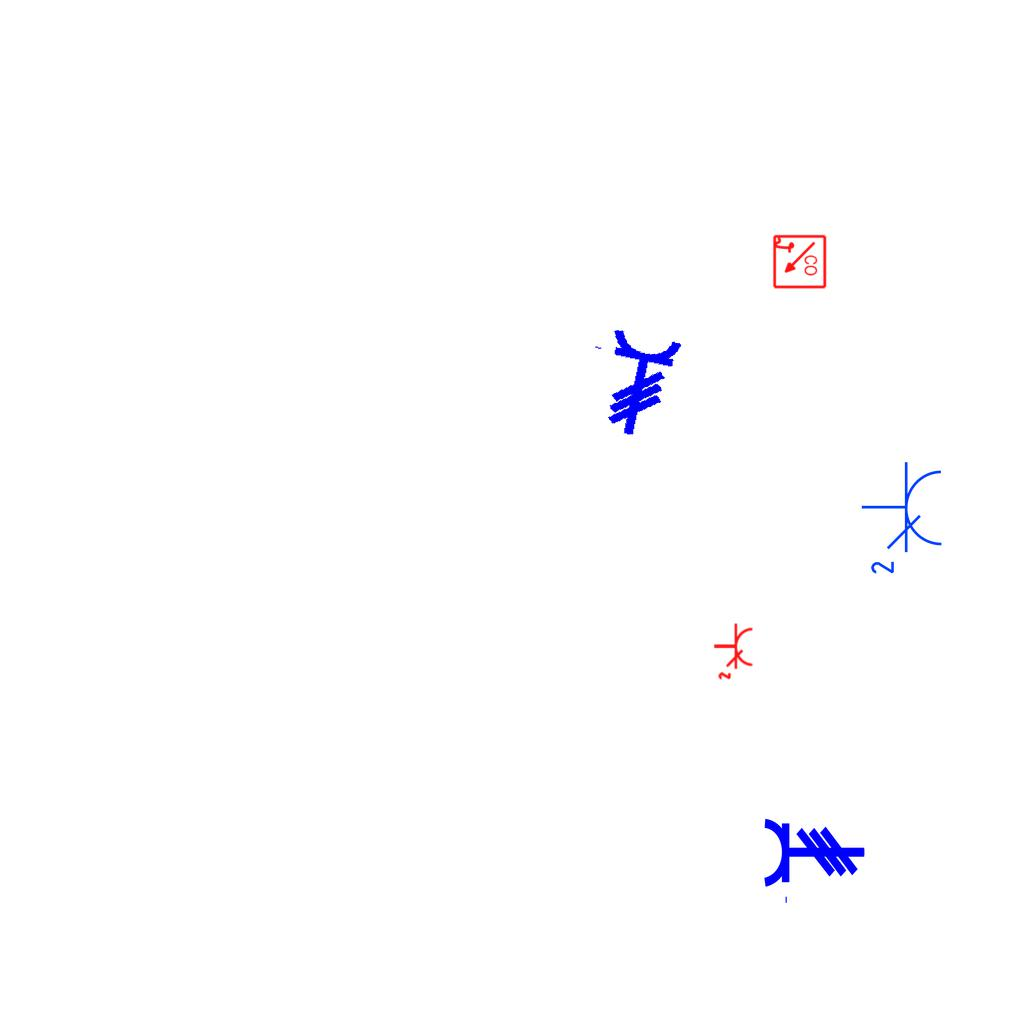CEE_Drehstrom_Steckdose_16_32_A: (575, 322, 685, 444), (762, 816, 866, 906)
ROA_Rauchmelder_optisch_mit_Signalgeber_(Sockelsirene): (771, 234, 827, 290)
Schukosteckdose_mehrfach: (860, 460, 948, 581), (711, 621, 755, 681)
